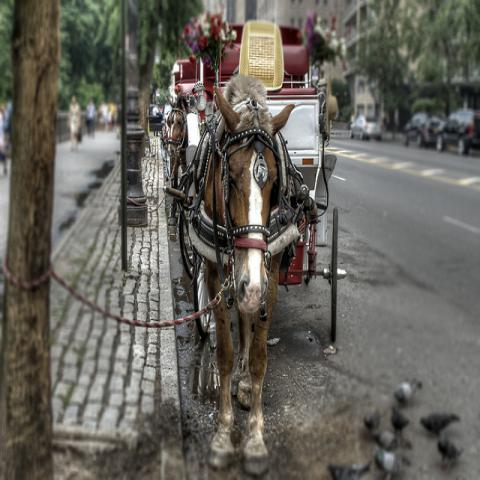car: (433, 110, 478, 154), (401, 107, 448, 148), (350, 115, 382, 141), (150, 104, 172, 131)
